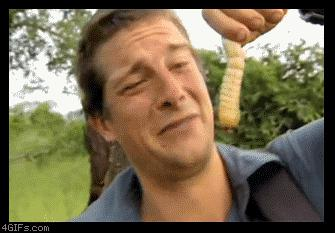grub: (216, 37, 262, 130)
